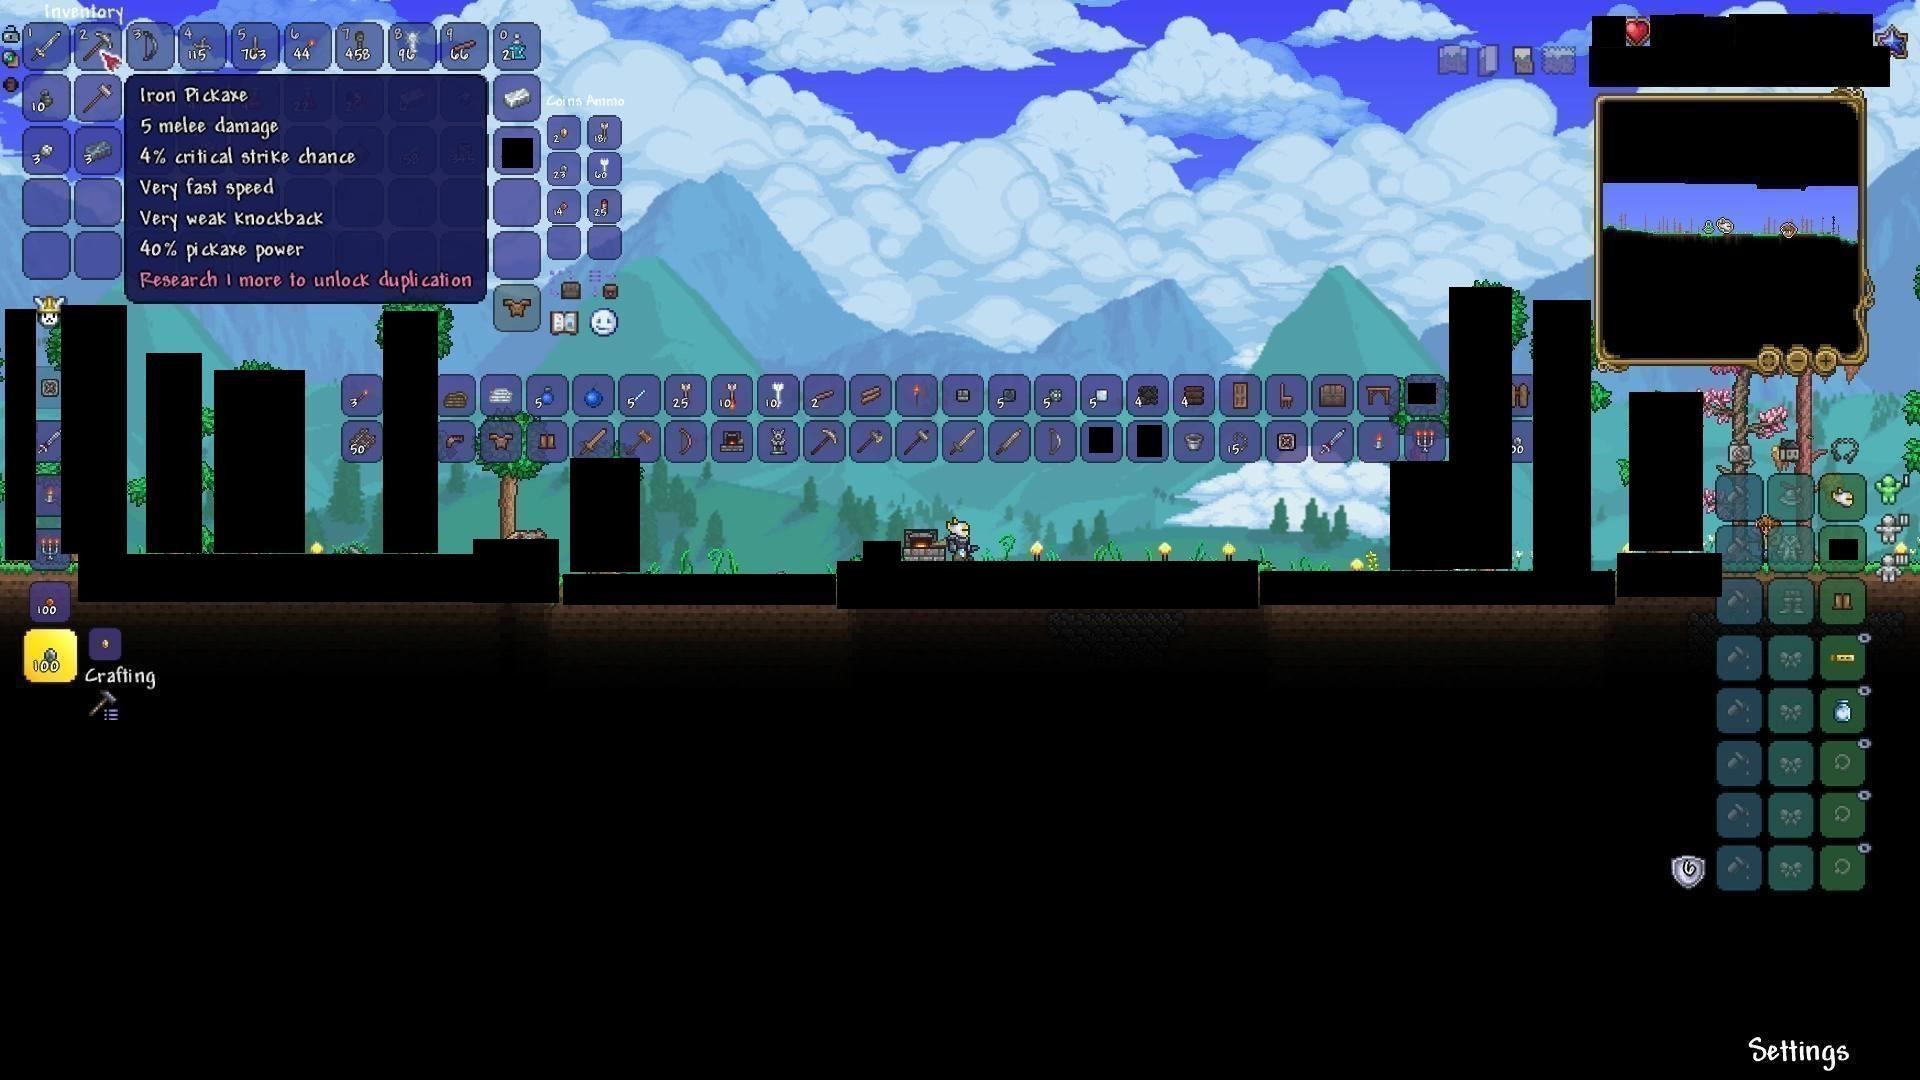breastplate: (502, 295, 533, 320)
dirt: (0, 560, 32, 605)
heart: (1625, 15, 1651, 44)
helmet: (1828, 484, 1857, 510), (443, 429, 467, 450)
legs: (1830, 589, 1857, 615), (1091, 426, 1114, 454)
tree: (480, 463, 545, 538)
wood: (857, 382, 887, 411)
